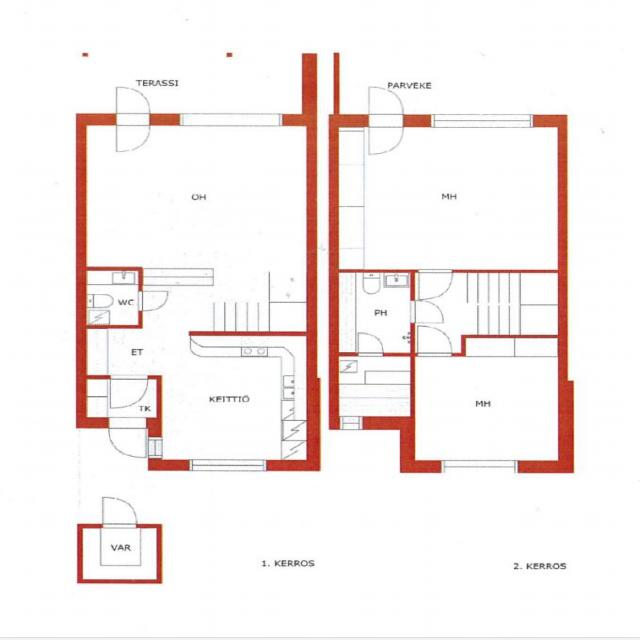door: (108, 418, 146, 458), (368, 86, 404, 128), (368, 115, 404, 156), (116, 115, 150, 154), (116, 88, 150, 126), (110, 376, 148, 410), (419, 269, 453, 301), (418, 325, 452, 357), (103, 498, 137, 529), (410, 301, 443, 323), (358, 332, 383, 357), (138, 290, 168, 310)
